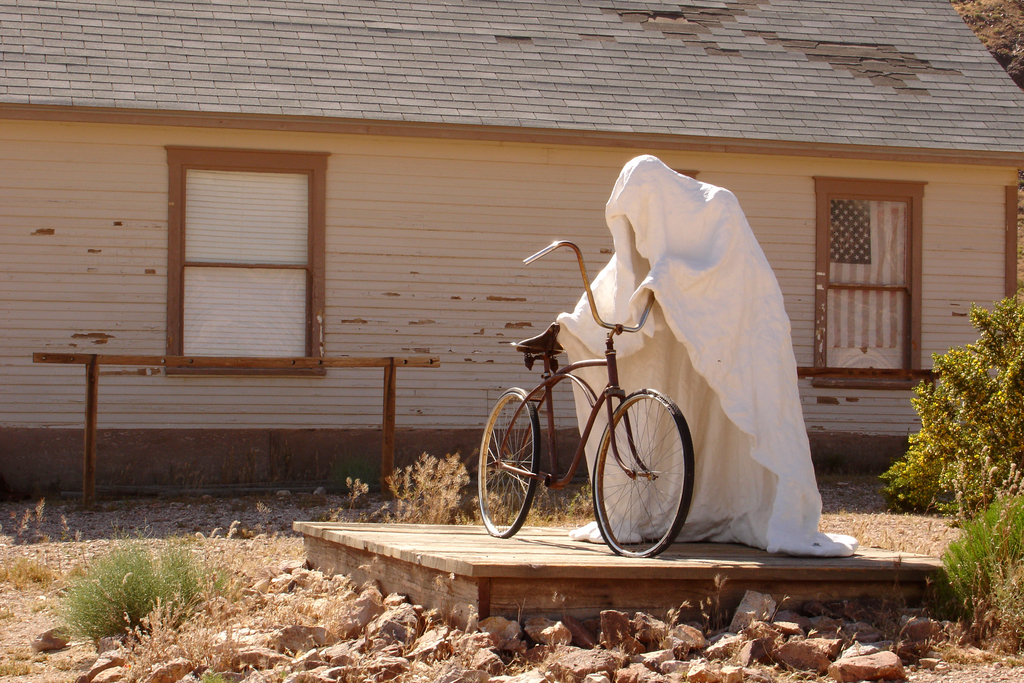Window: (154, 129, 335, 386), (828, 195, 909, 374)
